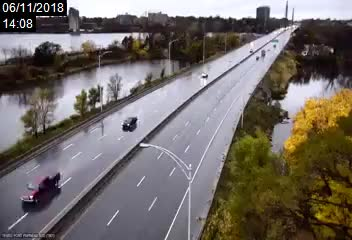personal_car: (19, 170, 61, 206), (119, 115, 138, 131), (200, 71, 208, 80)
